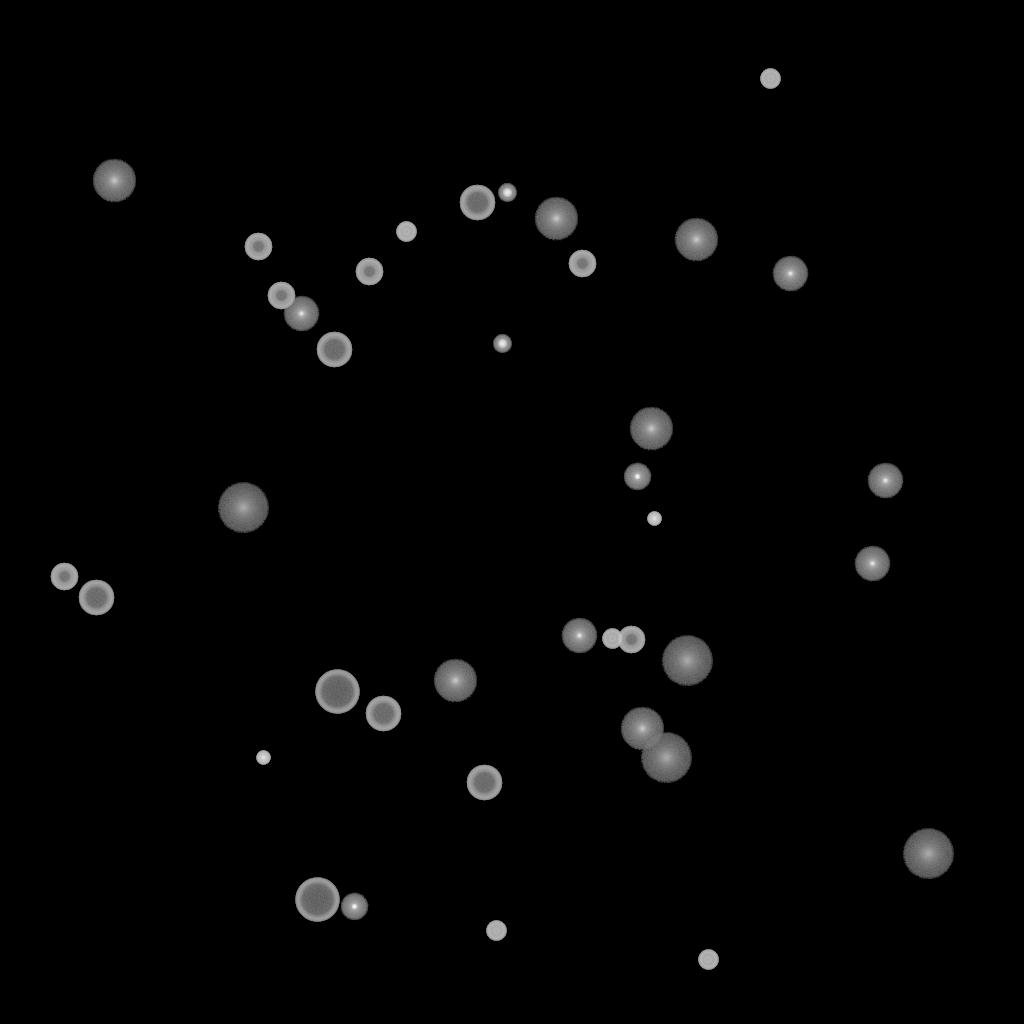depth:-10: (340, 893, 368, 921), (623, 463, 651, 491)
depth:-20: (498, 184, 516, 202), (493, 335, 511, 353)
depth:-30: (256, 751, 270, 765), (647, 512, 661, 526)
depth:-40: (698, 950, 718, 970), (760, 69, 780, 89), (396, 222, 416, 242), (486, 921, 506, 941), (602, 629, 622, 649)
depth:-50: (50, 563, 78, 591), (568, 250, 596, 278), (244, 233, 272, 261), (617, 626, 645, 654), (267, 282, 295, 310), (355, 258, 383, 286)
depth:-60: (365, 696, 401, 732), (316, 332, 352, 368), (459, 185, 495, 221), (466, 765, 502, 801), (78, 580, 114, 616)
depth:-70: (295, 878, 339, 922), (315, 670, 359, 714)
depth:0: (854, 546, 890, 582), (867, 463, 903, 499), (561, 618, 597, 654), (772, 256, 808, 292), (283, 296, 319, 332)
depth:10: (629, 407, 673, 451), (92, 159, 136, 203), (534, 197, 578, 241), (674, 218, 718, 262), (433, 659, 477, 703), (620, 707, 664, 751)
depth:20: (902, 829, 954, 879), (661, 636, 713, 686), (640, 733, 692, 783), (217, 483, 269, 533)
